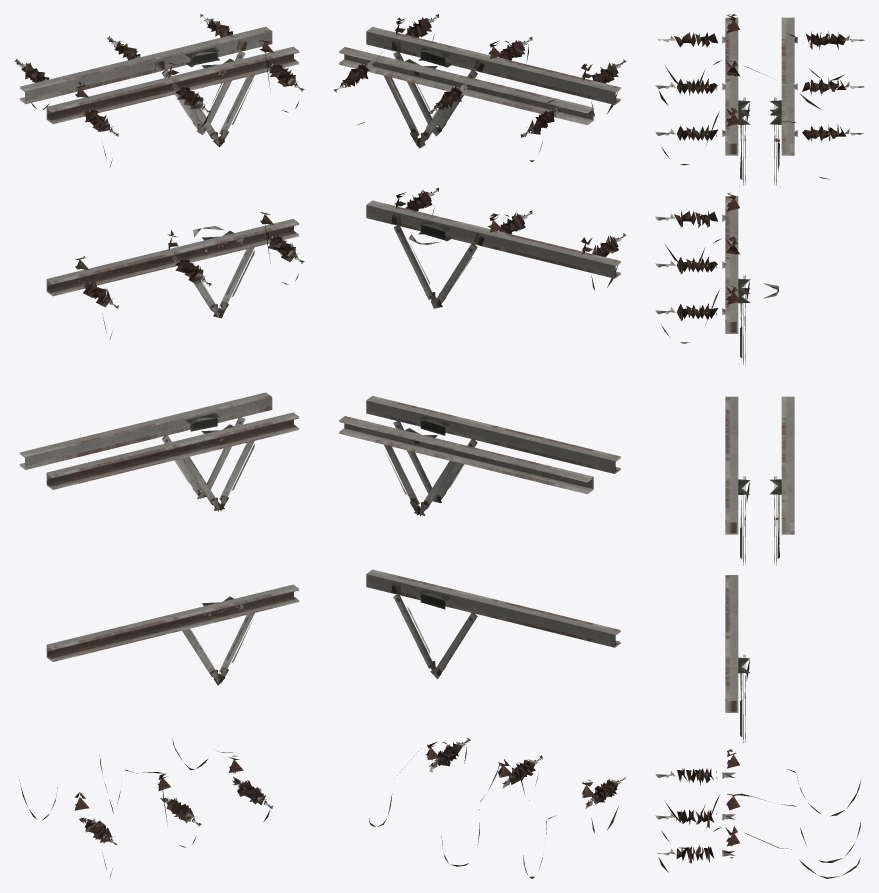
Rendered from ph_power_pole_05.fbx.
3 views of the same model, side by side, from view 1: azimuth 30°, elevation 25°; view 2: azimuth 150°, elevation 25°; view 3: azimuth 270°, elevation 25° (orthographic). The views are drawn at different scales.
Parts seen in each view (by area): view 1: ph_power_pole_05_LOD0; view 2: ph_power_pole_05_LOD0; view 3: ph_power_pole_05_LOD0.
Part boxes in pixels (x1,y1,x2,y2): ph_power_pole_05_LOD0: (14,14,304,877); ph_power_pole_05_LOD0: (334,14,626,878); ph_power_pole_05_LOD0: (655,14,864,878).
Size of what is drawn, in the model's own units: 1.2 by 3.63 by 0.8523.
